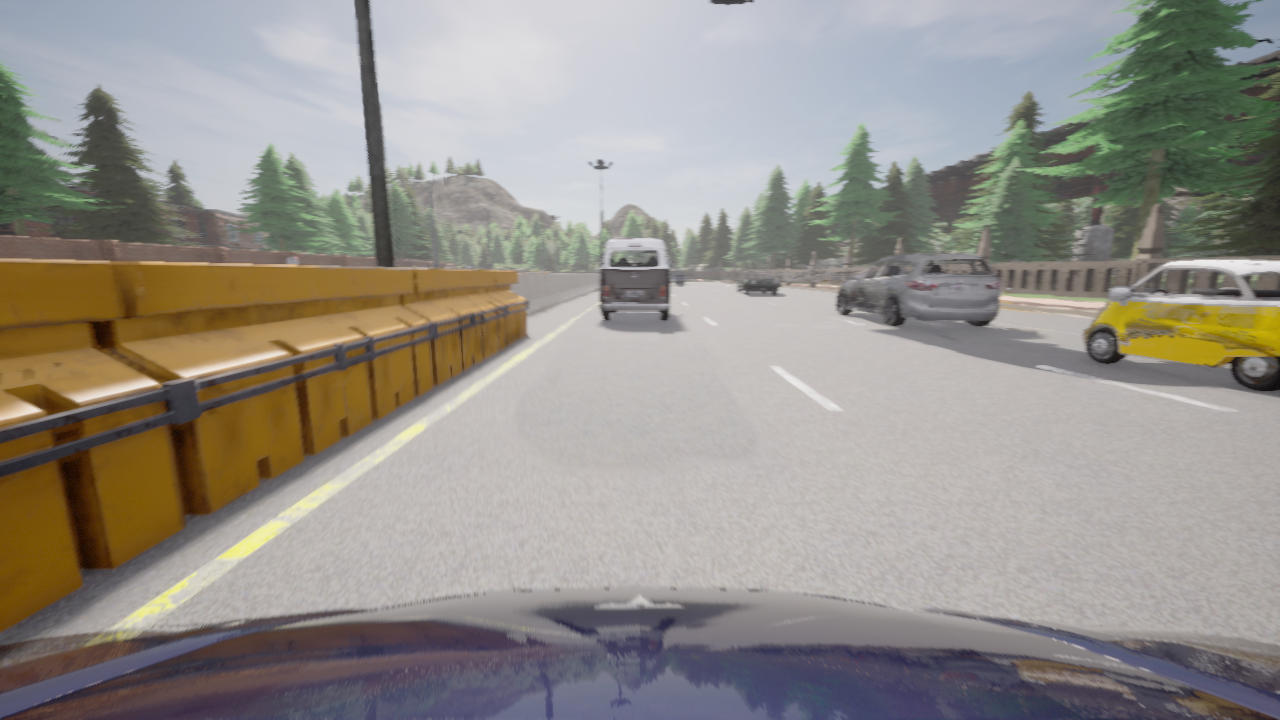cyclist: (0, 588, 1279, 719), (1082, 259, 1279, 391), (836, 254, 999, 326), (599, 239, 671, 321), (736, 272, 779, 294), (708, 0, 754, 6), (669, 269, 683, 284)
